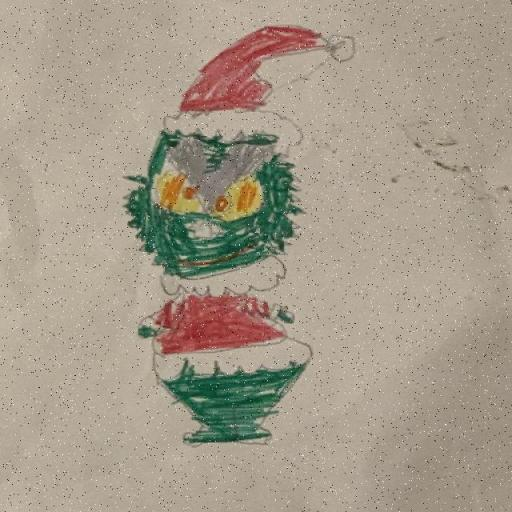person: (104, 17, 364, 496)
